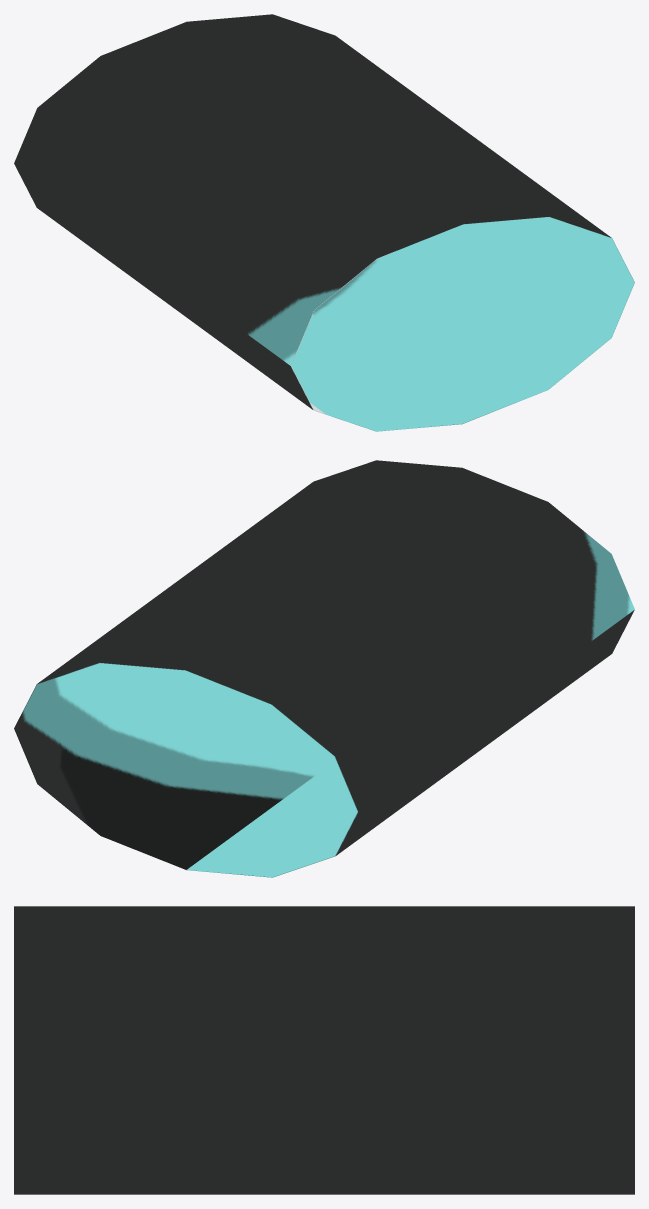
The model's file is Level 187.fbx.
3 views of the same model, one above another, from view 1: azimuth 30°, elevation 25°; view 2: azimuth 150°, elevation 25°; view 3: azimuth 270°, elevation 25° (orthographic). The views are drawn at different scales.
Parts seen in each view (by area): view 1: Blend; view 2: Blend; view 3: Blend.
Part boxes in pixels (<box>): Blend: <box>14,14,634,431</box>; Blend: <box>14,460,634,877</box>; Blend: <box>14,906,634,1194</box>.
Size of what is drawn, in the model's own units: 356 by 197 by 495.
